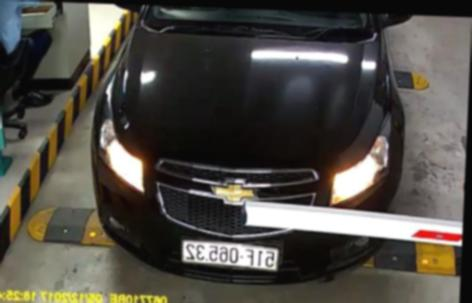License_Plate: (173, 235, 284, 272)
